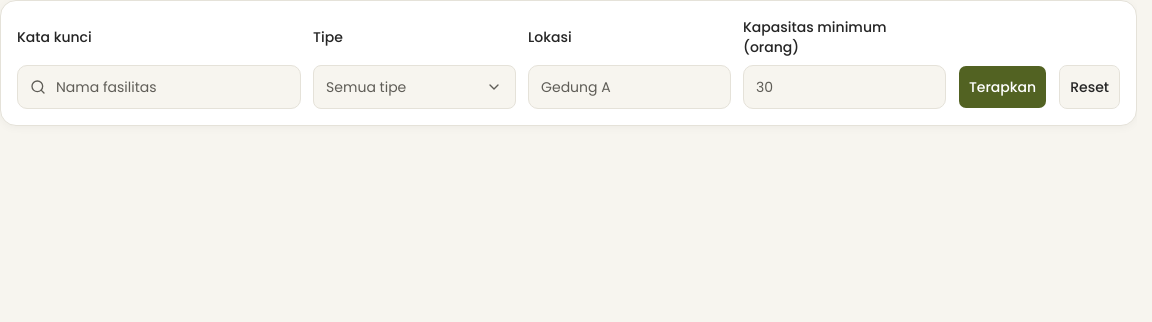
Scenario: FacilityFilterForm › mengubah label secara dinamis saat tipe alat dipilih
Expected: the number field named "Kapasitas minimum (orang)" is shown, [756, 77, 933, 97]
Click the dropdown labelled "tipe". click: click(415, 87)
box: [313, 65, 516, 109]
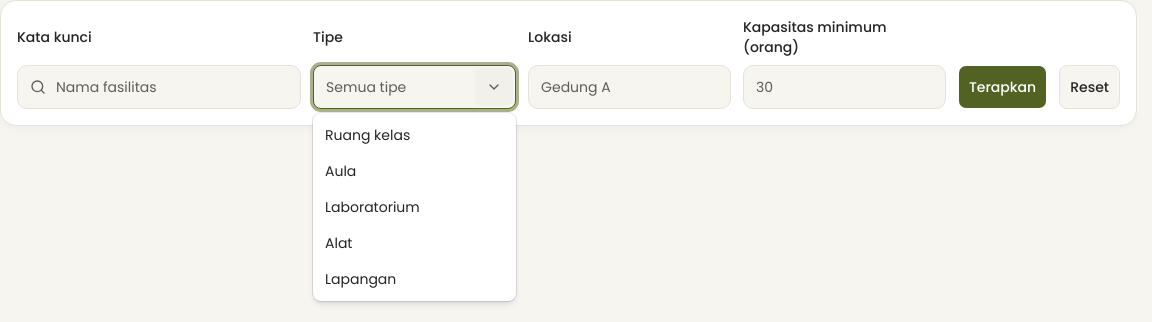
Click the option "Alat". click: click(339, 243)
box: [325, 233, 352, 253]
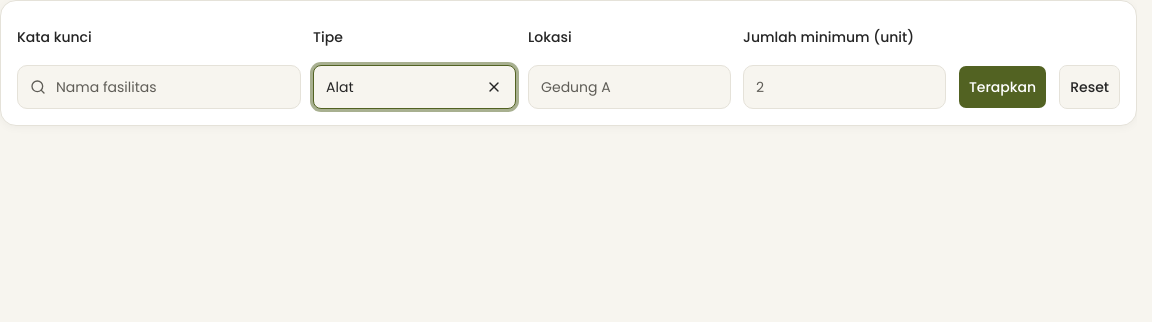
Result: the number field named "Jumlah minimum (unit)" is shown at [756, 77, 933, 97]
Result: the text "Kapasitas minimum (orang)" is gone
